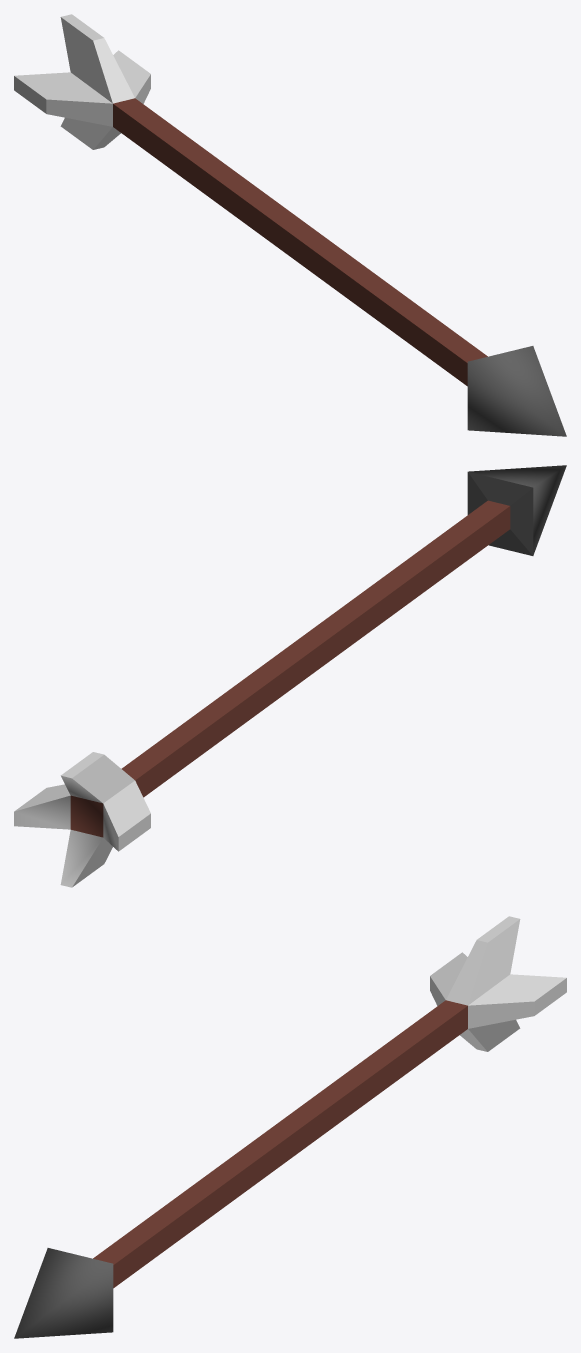
File: Arrow_Mod.fbx
The picture shows the model from 3 angles, top to bottom: view 1: azimuth 30°, elevation 25°; view 2: azimuth 150°, elevation 25°; view 3: azimuth 330°, elevation 25°; orthographic projection.
Visible parts, largest first — view 1: Arrow; view 2: Arrow; view 3: Arrow.
Part boxes in pixels (x1,y1,x2,y2): Arrow: (14,14,566,436); Arrow: (14,465,566,887); Arrow: (14,916,566,1338).
Bounding box in the file's own units: 5.79 × 5.79 × 48.05.
